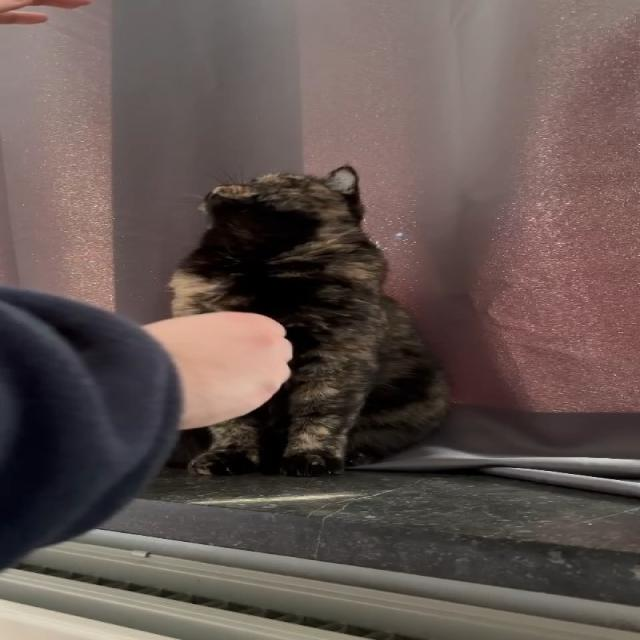authorized: (165, 164, 452, 477)
